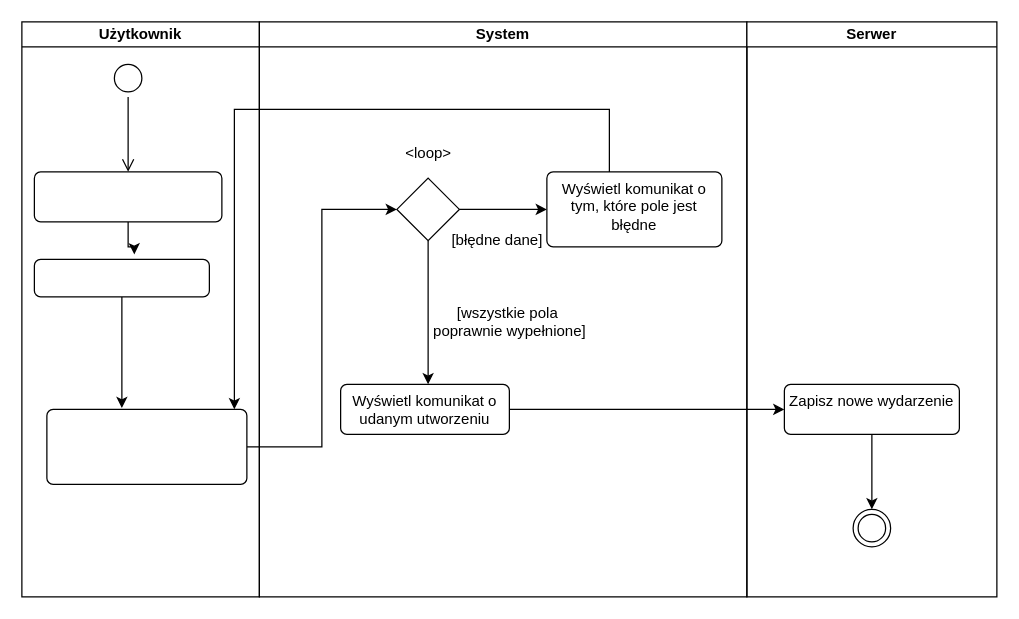
Some shapes in this 1019 by 619 pixel diagram are drawn without their labels. Each missing label, with the centre of its shape:
Kliknij przycisk "Nowe": (121,277)
Kliknij przycisk "Wydarzenia": (127,196)
Wprowadź dane do formularza tworzenia nowego wydarzenia: (146,446)
